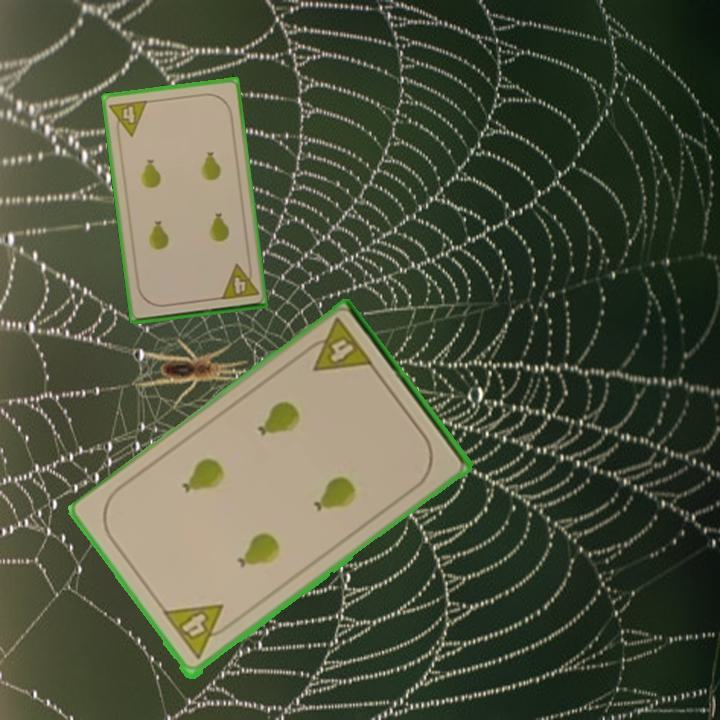4p: (160, 600, 237, 664), (297, 315, 376, 375), (106, 96, 150, 141), (217, 260, 261, 303)
